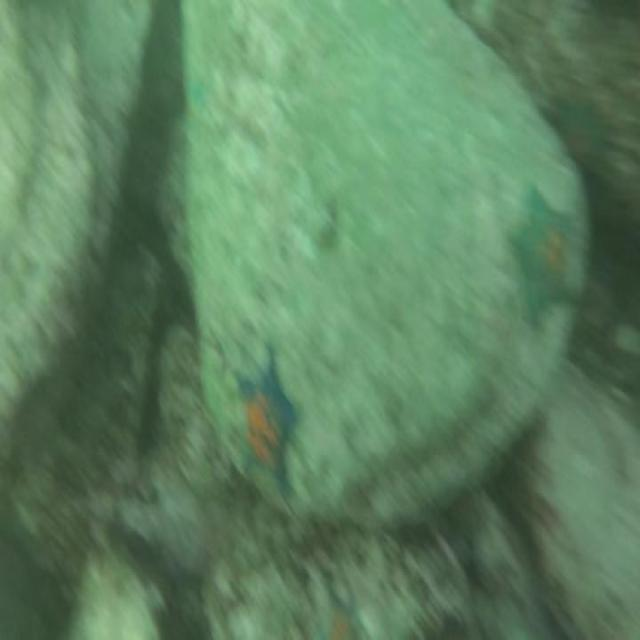starfish: (504, 177, 583, 337), (231, 346, 300, 504), (314, 589, 364, 640)
